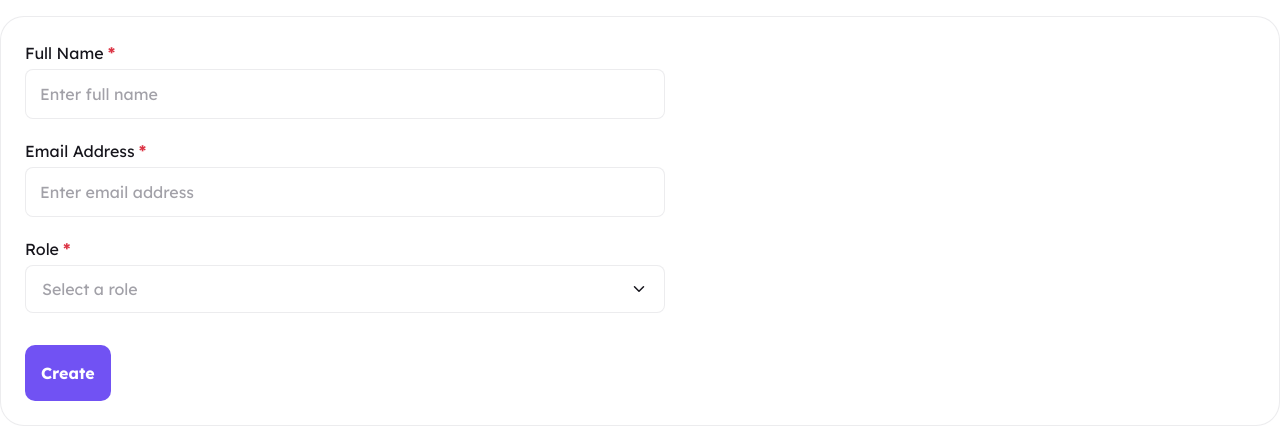
Test case: CreateUserDashboard › form › offers every assignable role in the dropdown
Click the button "Select a role" at [90, 289], box x1=25 y1=265 x2=665 y2=313
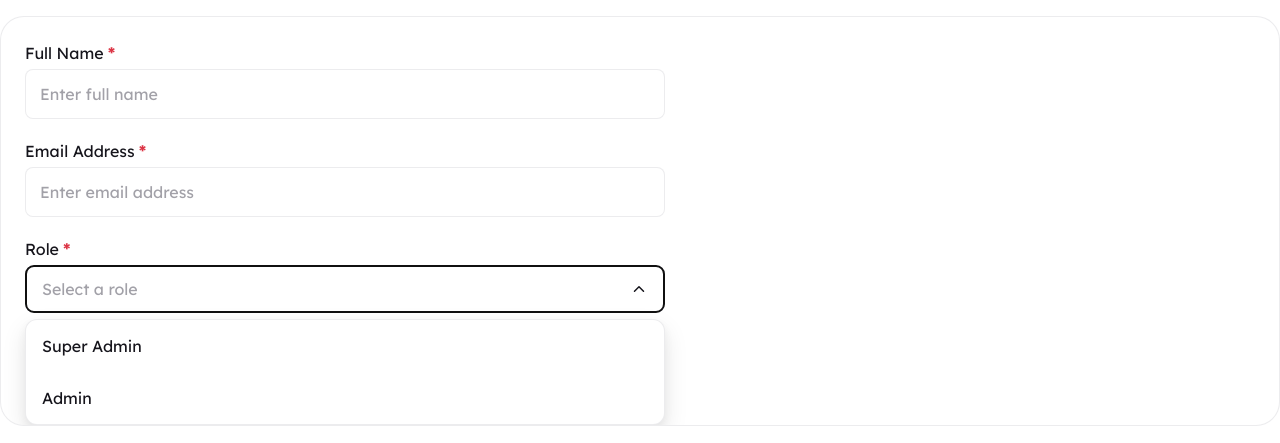
Expected: the button "Super Admin" is shown, x1=26 y1=320 x2=664 y2=372
Expected: the button "Admin" is shown, x1=26 y1=372 x2=664 y2=424
